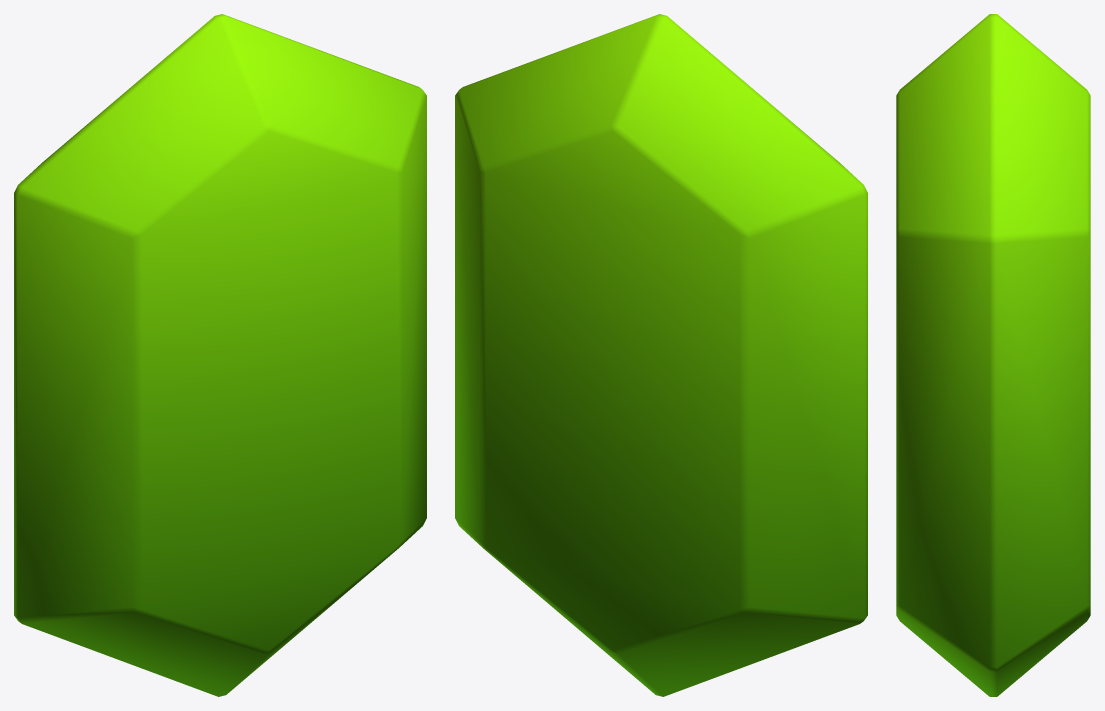
Rendered from Collectable_Gem_01.fbx.
The picture shows the model from 3 angles, left to right: view 1: azimuth 30°, elevation 25°; view 2: azimuth 150°, elevation 25°; view 3: azimuth 270°, elevation 25°; orthographic projection.
Parts seen in each view (by area): view 1: Collectable_Gem_01; view 2: Collectable_Gem_01; view 3: Collectable_Gem_01.
Boxes of the visible parts, bbox=[...] form: Collectable_Gem_01: bbox=[14, 14, 426, 696]; Collectable_Gem_01: bbox=[455, 14, 867, 696]; Collectable_Gem_01: bbox=[896, 14, 1090, 696].
Bounding box in the file's own units: 49.82 × 78.95 × 20.5.
